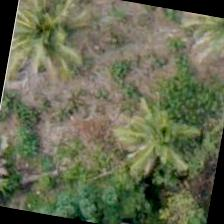Kelapa_Sawit: (107, 84, 212, 188), (5, 0, 95, 87), (175, 11, 223, 71)
